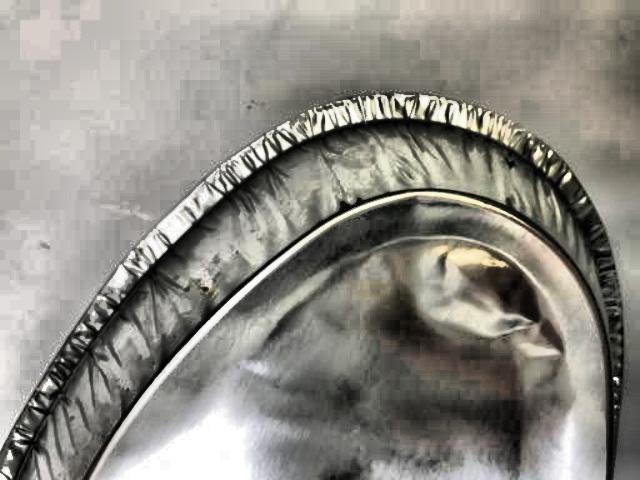Almennt: (38, 86, 640, 480)
